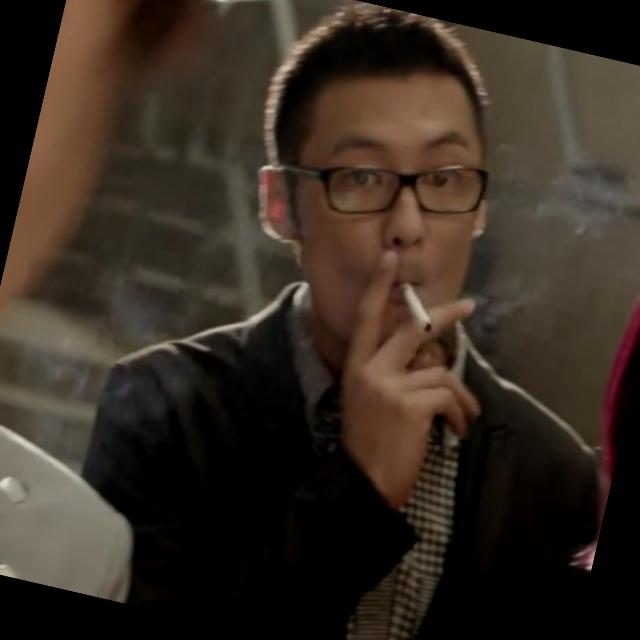smoke: (392, 289, 441, 336)
